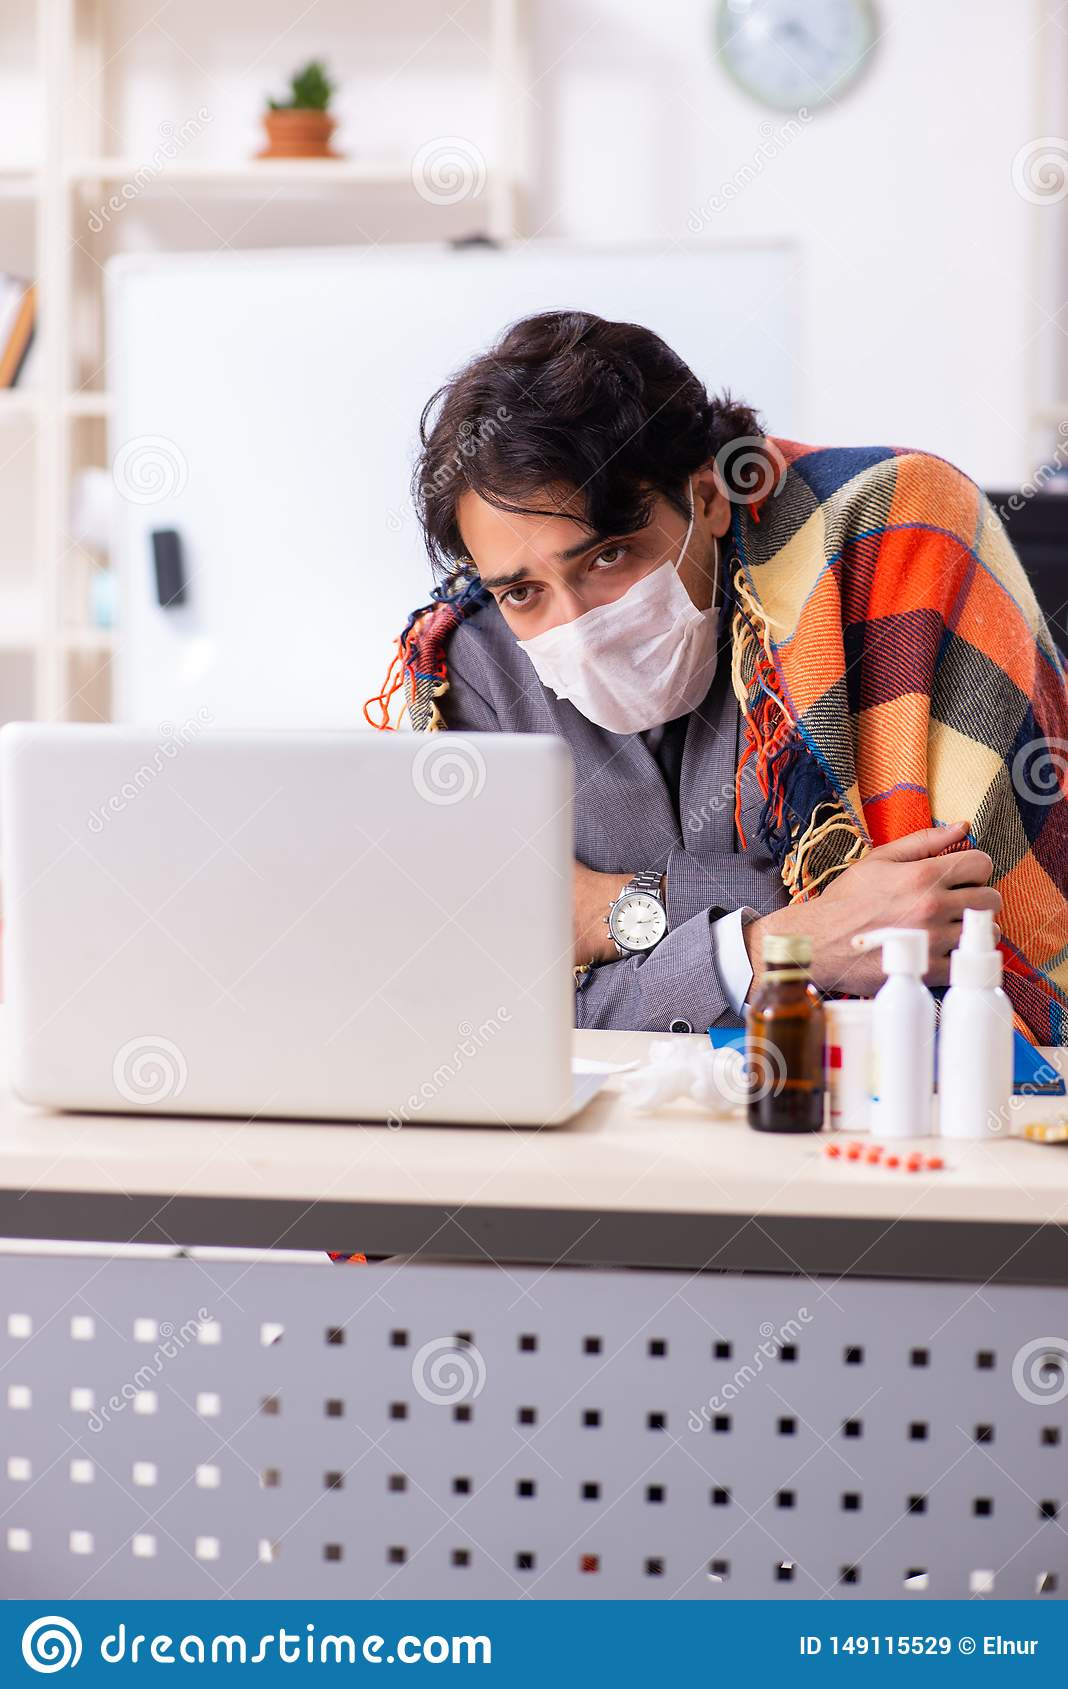mask: (520, 583, 735, 745)
